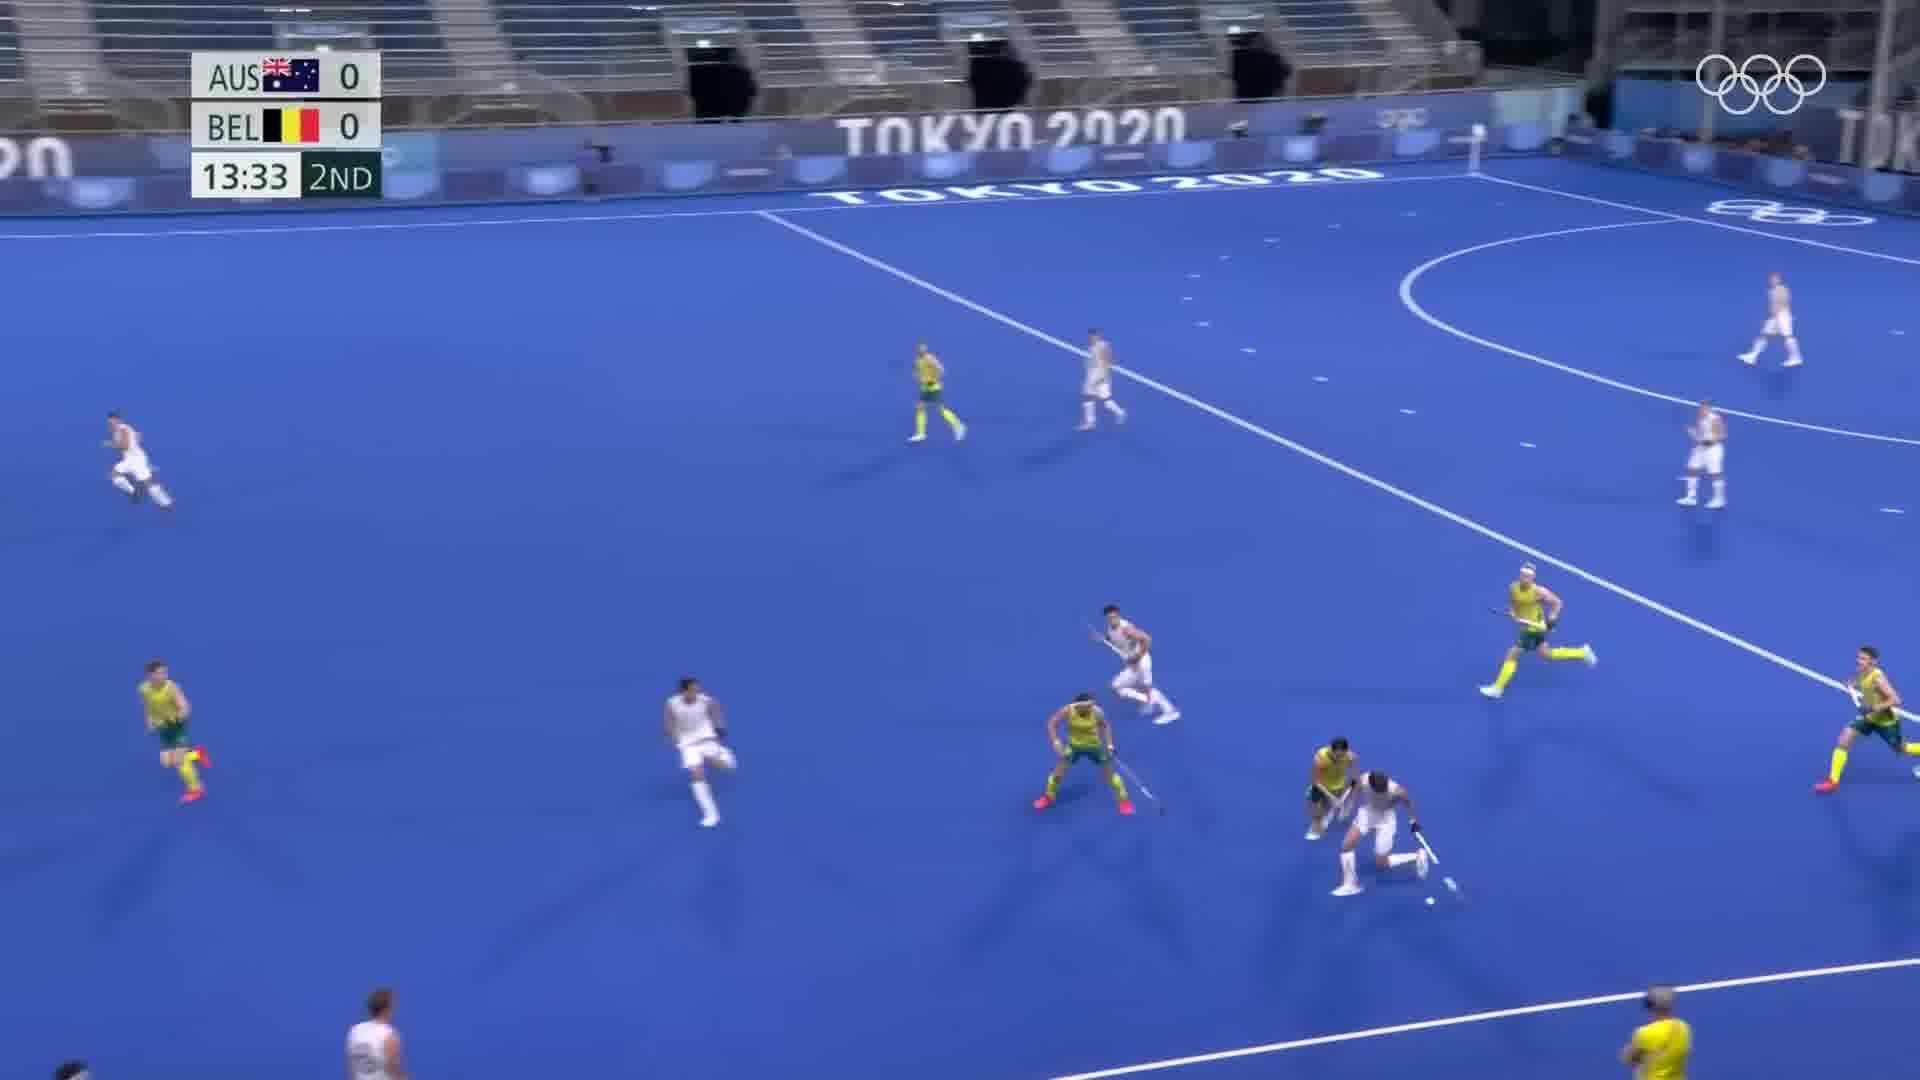ball: (1423, 886, 1443, 913)
